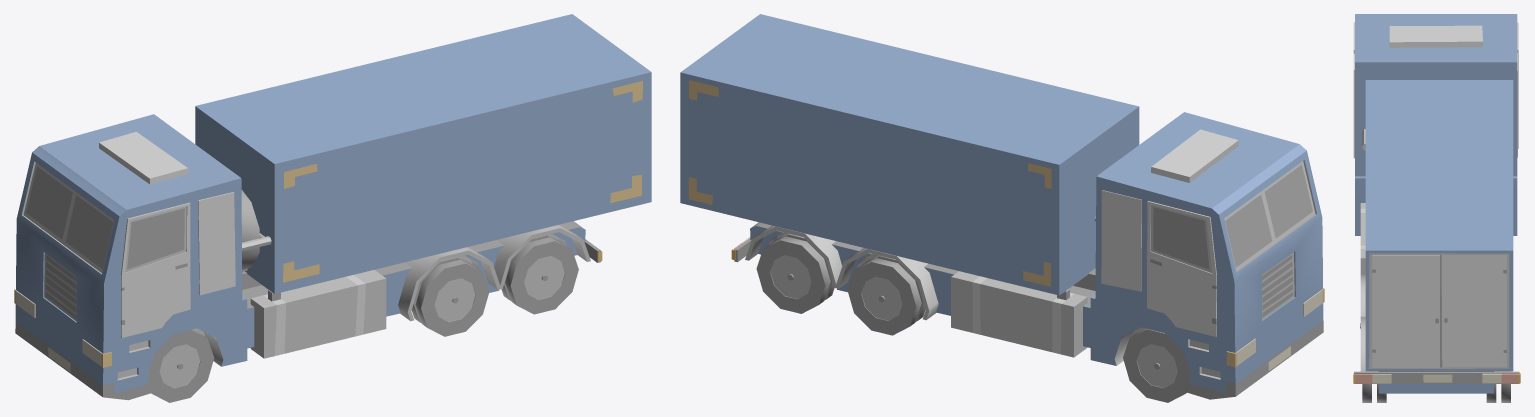
File: kar13.fbx
3 views of the same model, side by side, from view 1: azimuth 30°, elevation 25°; view 2: azimuth 150°, elevation 25°; view 3: azimuth 270°, elevation 25° (orthographic). The views are drawn at different scales.
Parts seen in each view (by area): view 1: Boole, Extrude_1, Cylinder_4, Cylinder_3, Cylinder_1; view 2: Boole, Extrude_2, Cylinder_5, Cylinder, Cylinder_2; view 3: Boole, Cube, Cube_1, Cylinder, Cylinder_3.
Part boxes in pixels (x1,y1,x2,y2): Boole: [14, 14, 651, 400]; Extrude_1: [121, 202, 190, 337]; Cylinder_4: [411, 257, 489, 336]; Cylinder_3: [501, 235, 578, 314]; Cylinder_1: [147, 329, 214, 402]; Boole: [680, 14, 1324, 399]; Extrude_2: [1147, 201, 1216, 336]; Cylinder_5: [847, 255, 925, 335]; Cylinder: [756, 233, 834, 313]; Cylinder_2: [1123, 328, 1190, 402]; Boole: [1353, 14, 1520, 393]; Cube: [1372, 255, 1439, 367]; Cube_1: [1440, 255, 1506, 367]; Cylinder: [1486, 384, 1510, 402]; Cylinder_3: [1362, 384, 1386, 402].
Bounding box in the file's own units: 896 × 333 × 251.
